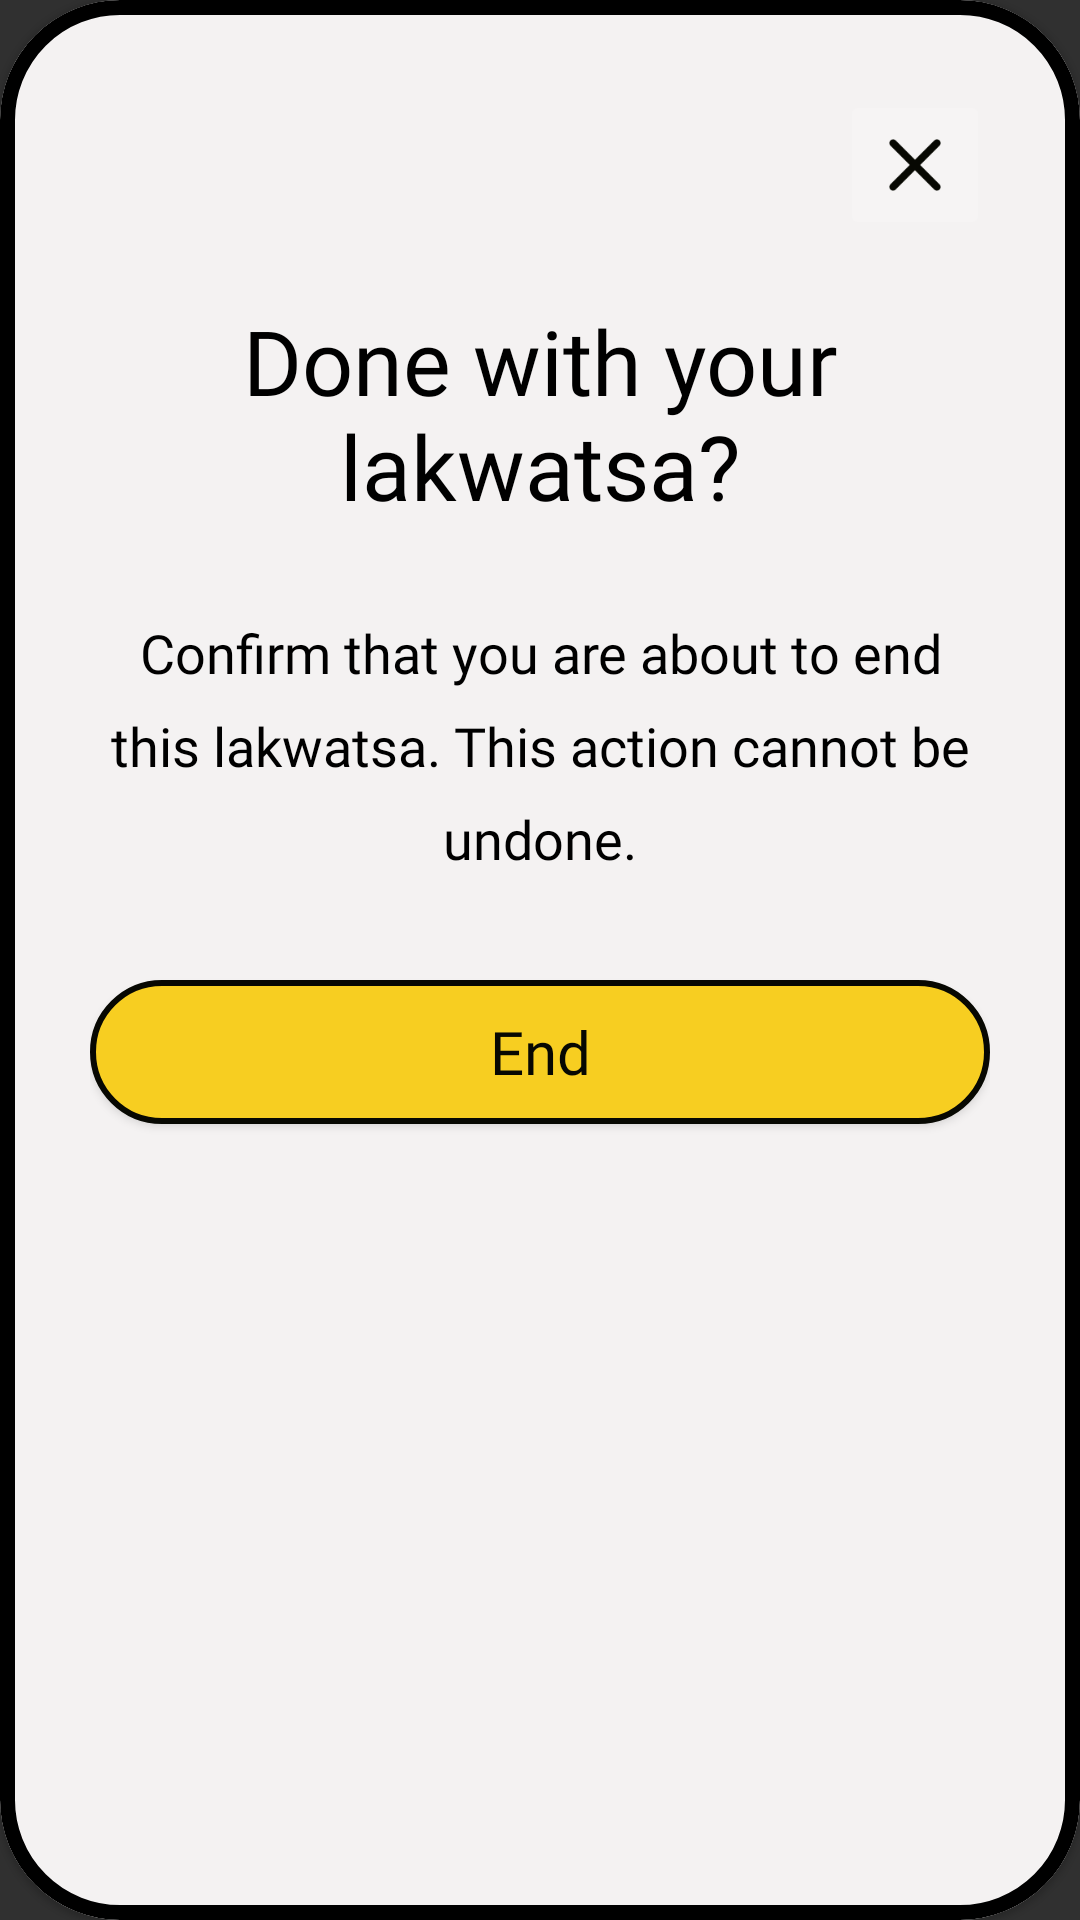

Named icons in this screenshot (1080×1920) and their bounding boxes, (x1, y1, x2, y2):
close: (889, 139, 941, 191)
